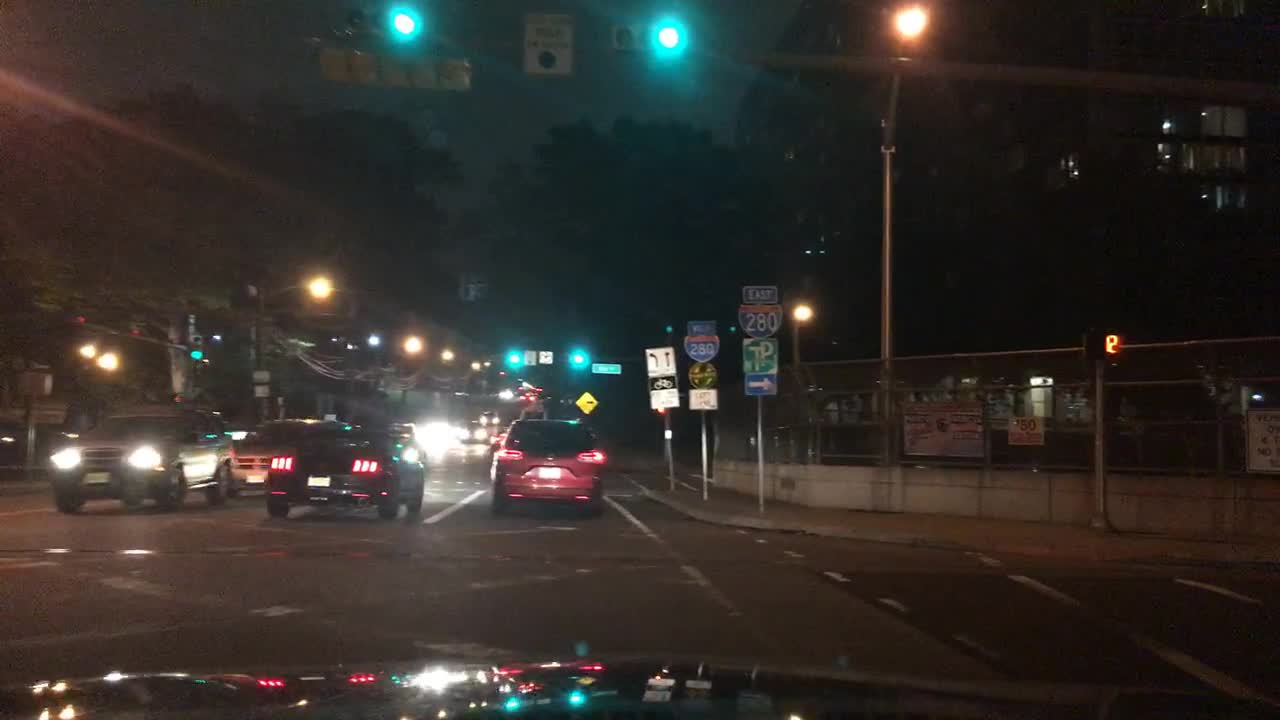car: (46, 398, 239, 516), (257, 417, 428, 526), (483, 414, 611, 518), (225, 414, 356, 506), (417, 419, 470, 448), (515, 405, 551, 422), (472, 422, 501, 443), (477, 408, 501, 429)
traffic light: (333, 6, 422, 37), (651, 14, 687, 57), (1085, 324, 1121, 361), (188, 342, 212, 377), (63, 304, 91, 329), (504, 346, 522, 371), (569, 346, 585, 371), (128, 321, 144, 338)
traffic sign: (900, 406, 984, 459), (520, 9, 575, 77), (1240, 408, 1278, 474), (740, 335, 782, 377), (735, 304, 785, 338), (683, 330, 722, 364), (643, 343, 680, 377), (1006, 413, 1045, 445), (611, 19, 641, 54), (687, 359, 720, 388), (740, 282, 779, 306), (572, 387, 601, 414), (740, 377, 782, 395), (648, 387, 682, 409), (688, 387, 719, 409), (643, 372, 680, 390), (685, 317, 719, 335), (588, 359, 624, 375), (251, 367, 272, 387), (26, 356, 54, 369), (251, 384, 272, 401), (522, 346, 538, 366), (538, 346, 554, 366), (661, 426, 677, 440)
